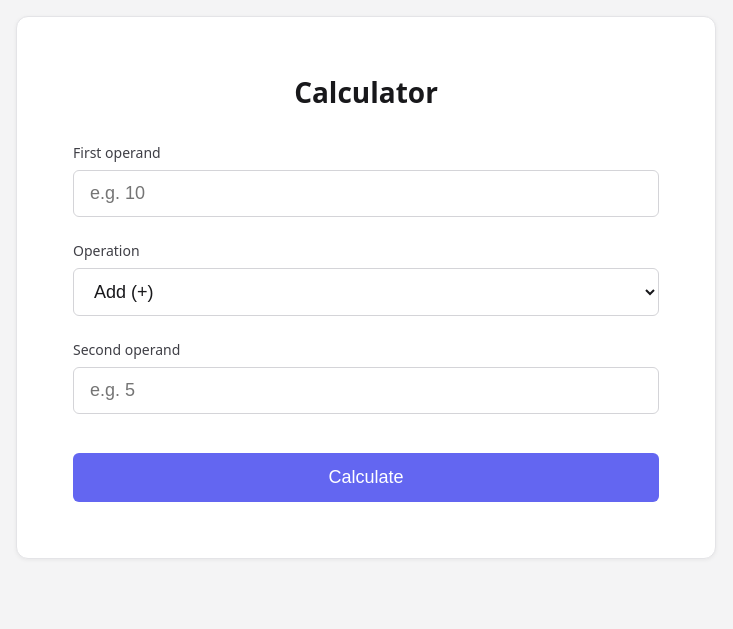
App › displays error message when API returns an error
Type "10" into the field labelled "First operand" at (366, 194), box left=73, top=170, right=659, bottom=217
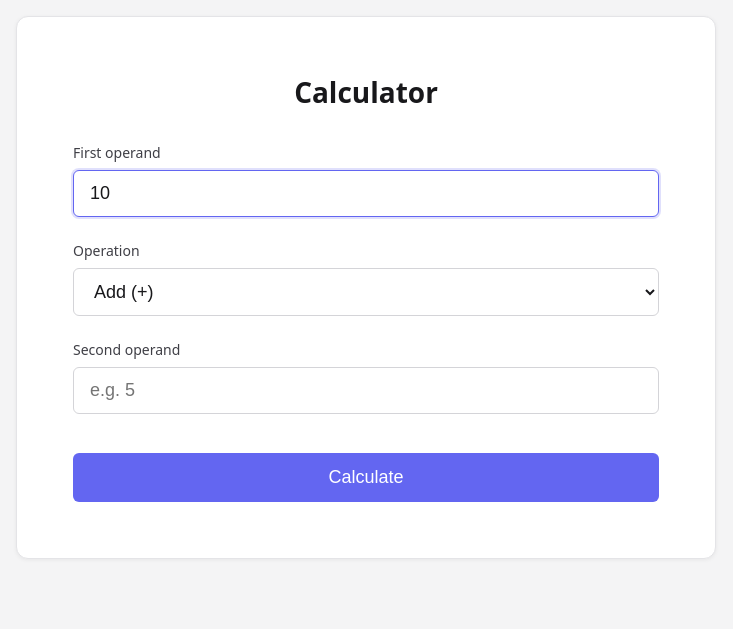
Type "0" into the field labelled "Second operand" at (366, 390), box left=73, top=367, right=659, bottom=414
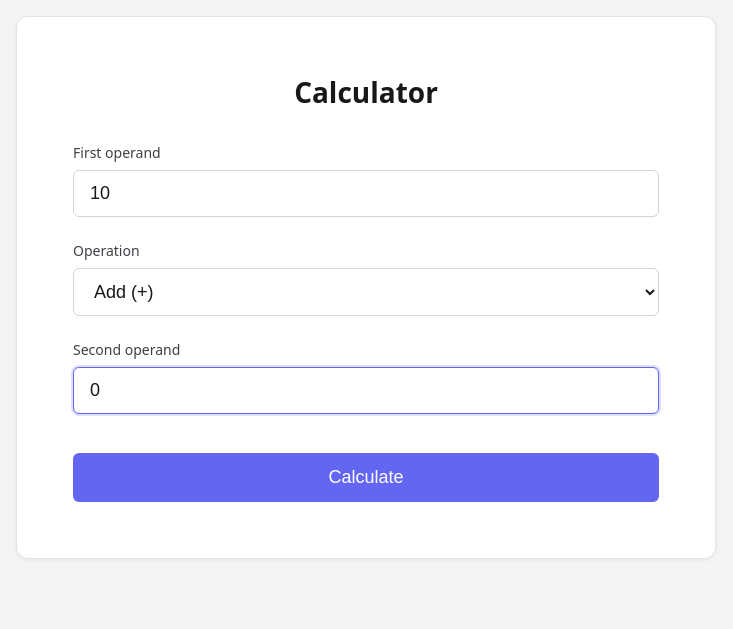
Click the button "Calculate" at (366, 478), box left=73, top=453, right=659, bottom=502
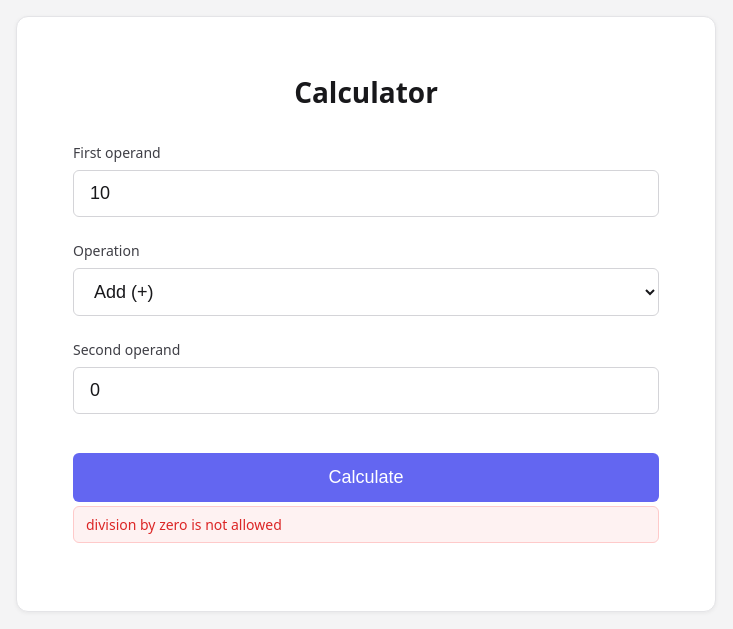
Expected: the message reads "division by zero is not allowed", left=86, top=515, right=282, bottom=534
